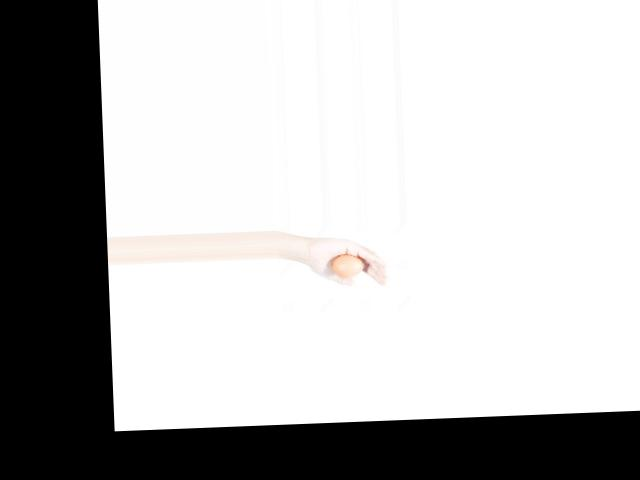egg: (332, 254, 363, 278)
